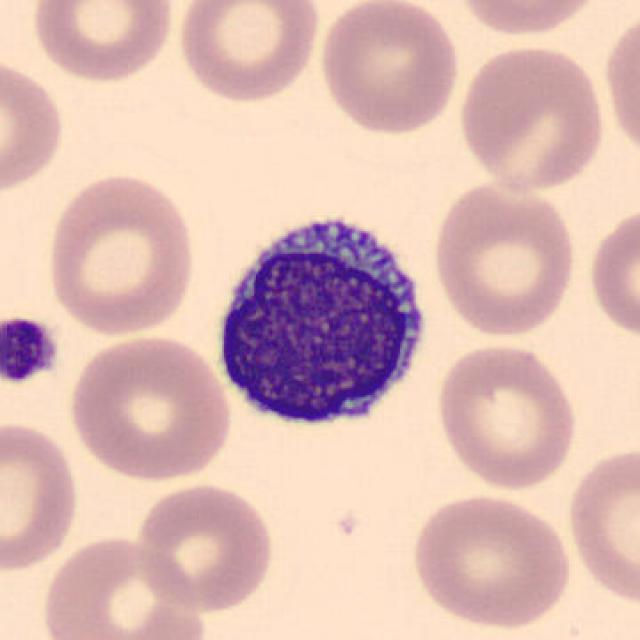Lymphocyte: (203, 197, 439, 441)
Platelets: (0, 314, 62, 386)
RBC: (41, 168, 199, 340), (64, 331, 235, 485), (428, 176, 580, 338), (455, 41, 610, 196), (407, 490, 574, 631), (432, 338, 581, 492), (313, 0, 464, 138), (134, 479, 278, 614), (37, 532, 210, 640), (172, 0, 324, 106), (0, 416, 84, 575), (26, 0, 178, 85), (564, 439, 638, 608), (0, 53, 68, 197), (585, 199, 640, 346), (599, 5, 640, 166), (450, 0, 606, 39)
